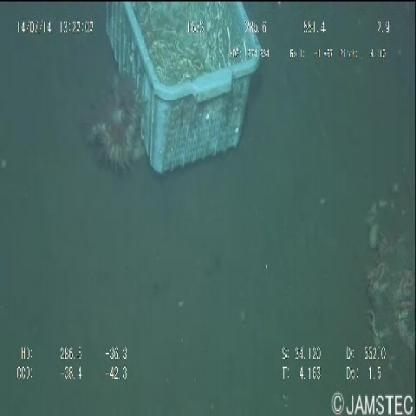Rác: (98, 2, 258, 197)
